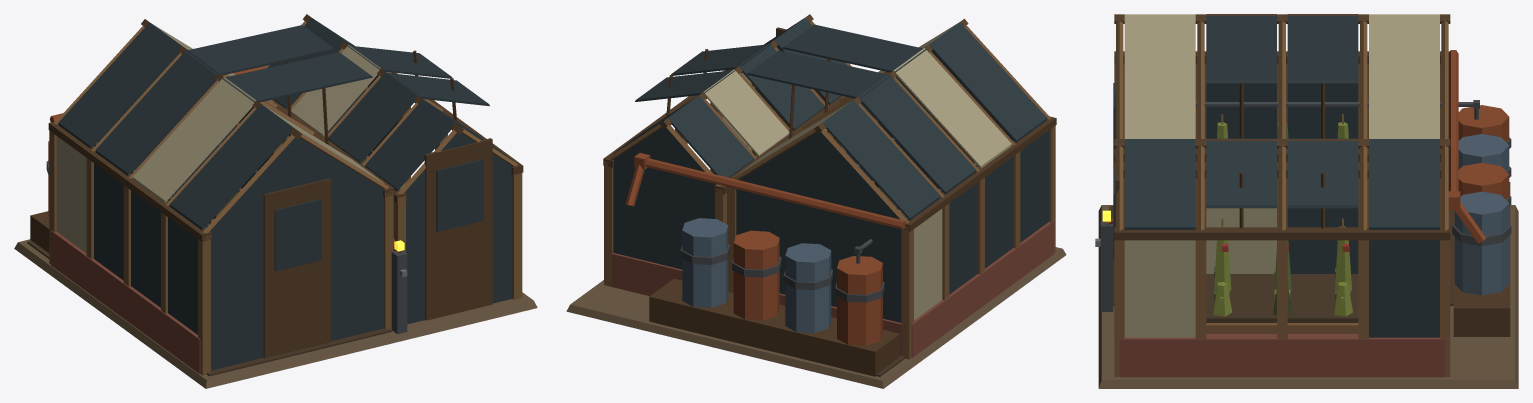
The model's file is greenhouse_l2.glb.
The picture shows the model from 3 angles, left to right: view 1: azimuth 30°, elevation 25°; view 2: azimuth 150°, elevation 25°; view 3: azimuth 270°, elevation 25°; orthographic projection. The views are drawn at different scales.
Parts seen in each view (by area): view 1: greenhouse_l2_mesh; view 2: greenhouse_l2_mesh; view 3: greenhouse_l2_mesh.
Boxes of the visible parts, x1,y1,x2,y2 form: greenhouse_l2_mesh: (14,14,537,388); greenhouse_l2_mesh: (566,14,1066,388); greenhouse_l2_mesh: (1095,14,1518,388).
Size of the model in its own units: 4.02 by 2.63 by 4.03.
